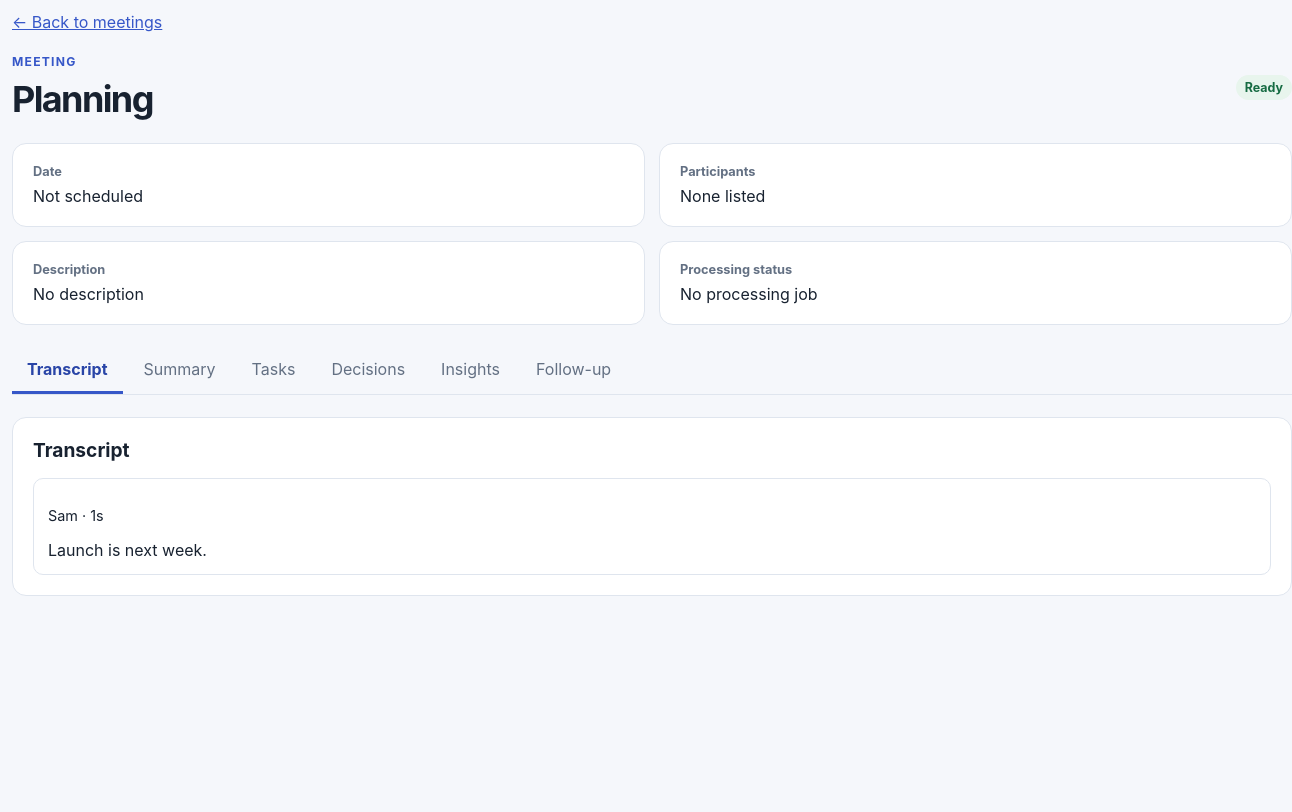
MeetingDetailsPage › renders meeting metadata and transcript, and navigates between sections
Expected: the heading "Planning" is shown, 12,77 -> 153,121
Expected: the text "Launch is next week." is shown, 48,540 -> 207,560
Click the tab "Tasks" at (274, 370), box 237,347 -> 310,394
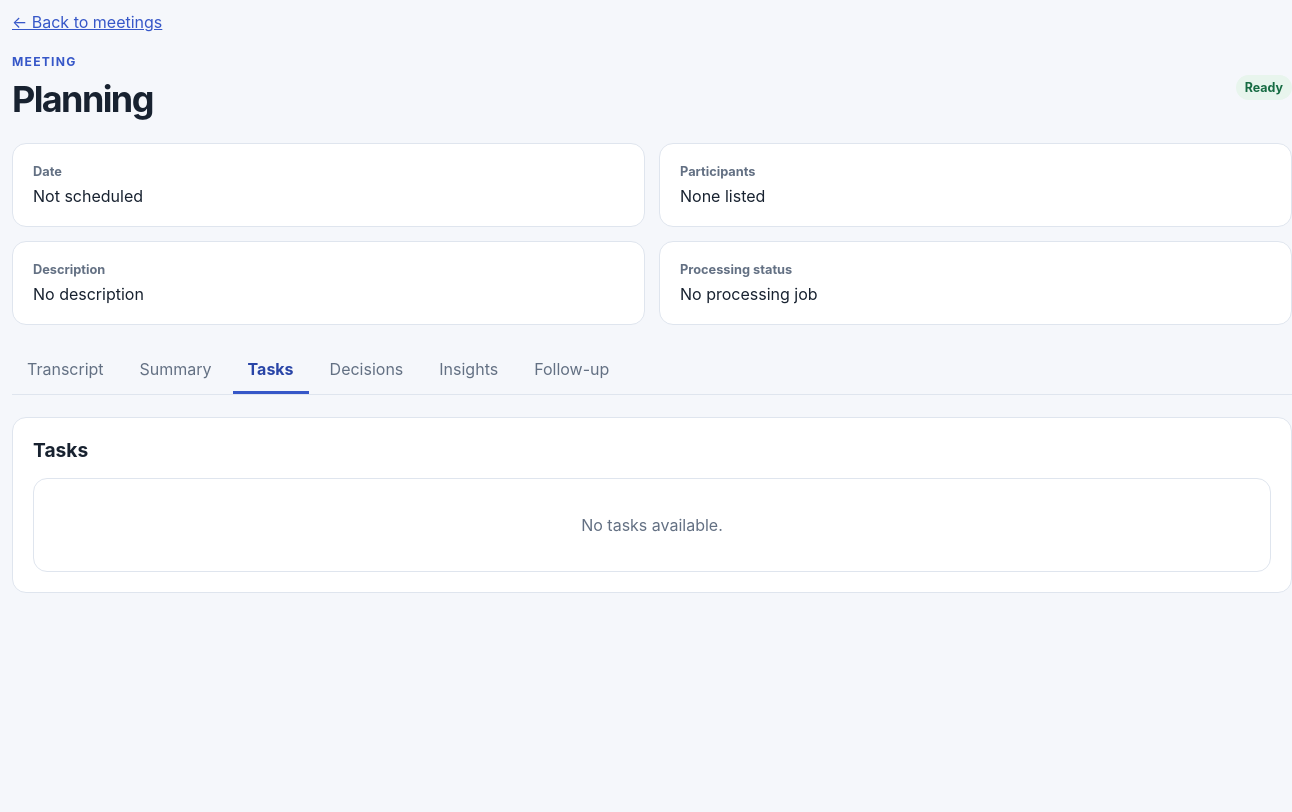
Expected: the text "No tasks available." is shown, 33,478 -> 1271,572
